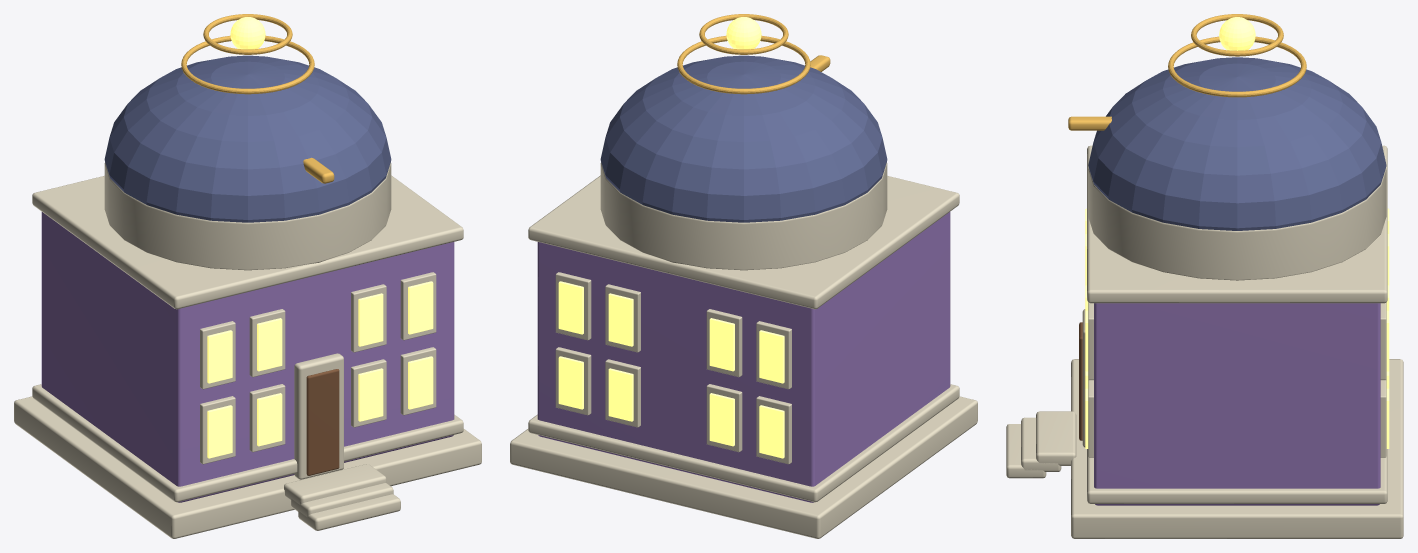
The model's file is SM_Observatory_Fantasy.fbx.
The picture shows the model from 3 angles, left to right: view 1: azimuth 30°, elevation 25°; view 2: azimuth 150°, elevation 25°; view 3: azimuth 270°, elevation 25°; orthographic projection. The views are drawn at different scales.
Visible parts, largest first — view 1: SM_Observatory_Fantasy; view 2: SM_Observatory_Fantasy; view 3: SM_Observatory_Fantasy.
Part boxes in pixels (<box>): SM_Observatory_Fantasy: <box>14,14,481,538</box>; SM_Observatory_Fantasy: <box>510,14,977,538</box>; SM_Observatory_Fantasy: <box>1006,14,1403,538</box>.
Size of the model in its own units: 325 by 347 by 426.
